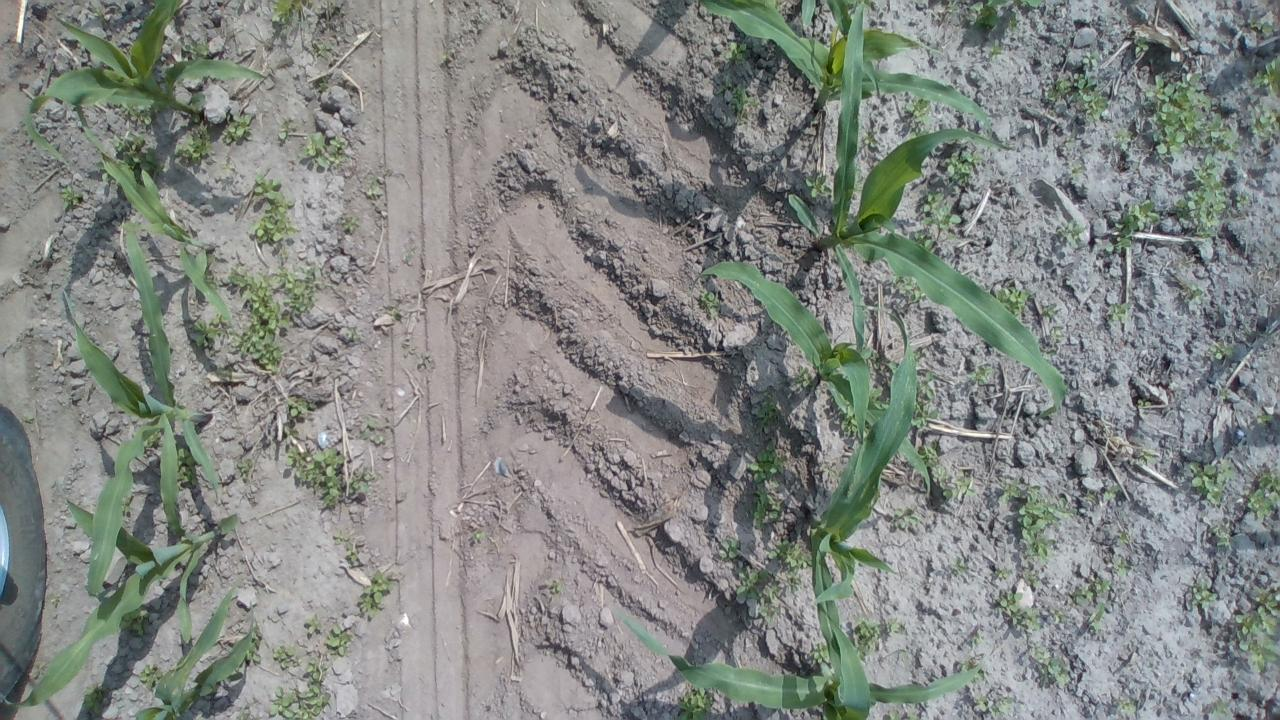Maize: (788, 3, 1068, 422), (62, 229, 222, 615), (698, 255, 932, 498), (21, 500, 242, 710), (808, 300, 918, 692), (608, 606, 982, 720), (24, 0, 269, 166), (698, 0, 991, 130), (80, 122, 236, 325), (132, 588, 252, 720)
Weeds: (1142, 72, 1242, 156), (283, 426, 377, 510), (226, 264, 292, 376), (1000, 478, 1077, 560), (1176, 152, 1229, 239), (269, 645, 330, 720), (1233, 588, 1280, 672), (747, 438, 788, 529), (1096, 198, 1162, 252), (1042, 70, 1110, 122), (248, 176, 298, 242), (945, 0, 1043, 32), (110, 129, 168, 182), (736, 564, 783, 626), (272, 264, 316, 318), (356, 570, 398, 622), (297, 131, 353, 170), (922, 188, 961, 241), (1188, 461, 1233, 506), (996, 589, 1042, 631), (726, 78, 760, 127), (1247, 472, 1280, 522), (931, 464, 977, 499), (1032, 646, 1072, 686), (768, 540, 812, 575), (174, 122, 212, 160), (756, 390, 788, 434), (851, 616, 880, 664), (678, 683, 714, 720), (945, 152, 983, 186), (1252, 54, 1280, 100), (903, 94, 931, 140), (174, 436, 198, 488), (1247, 101, 1280, 138), (188, 314, 224, 347), (1072, 576, 1110, 606), (996, 286, 1030, 318), (222, 110, 254, 144), (270, 0, 313, 25), (892, 274, 927, 304), (120, 102, 160, 126), (1054, 219, 1084, 250), (334, 529, 361, 562), (326, 623, 352, 657), (80, 683, 106, 716), (911, 401, 940, 430), (122, 610, 152, 638), (357, 416, 386, 444), (1192, 579, 1218, 610), (698, 288, 723, 320), (138, 662, 166, 690), (1040, 325, 1064, 357), (978, 696, 1012, 717), (716, 535, 742, 562), (806, 172, 832, 199), (1208, 520, 1233, 548), (894, 506, 922, 530), (910, 230, 936, 254), (245, 626, 262, 662), (182, 40, 211, 61), (284, 397, 316, 416), (790, 364, 814, 389), (915, 443, 940, 467), (722, 40, 747, 63), (62, 186, 84, 212), (915, 372, 935, 400), (966, 366, 994, 386), (960, 662, 985, 684), (809, 640, 830, 666), (1112, 128, 1134, 152), (1088, 602, 1104, 634), (97, 162, 117, 187), (1210, 698, 1232, 720), (1181, 279, 1203, 301), (842, 406, 858, 436), (870, 386, 890, 410), (1108, 302, 1132, 322), (1210, 342, 1236, 360), (884, 707, 918, 720), (862, 346, 882, 368), (340, 214, 360, 236), (364, 174, 384, 196), (1248, 19, 1275, 35), (1112, 556, 1132, 577), (236, 457, 254, 479), (1049, 606, 1067, 627), (822, 462, 844, 479), (304, 614, 321, 635), (141, 431, 162, 448), (988, 40, 1004, 62), (786, 573, 804, 592), (853, 167, 866, 193), (1021, 570, 1040, 587), (1133, 37, 1150, 56), (843, 0, 874, 10), (1234, 193, 1252, 210), (886, 619, 904, 636), (204, 273, 222, 290), (1069, 162, 1088, 178), (1082, 52, 1101, 68), (383, 306, 402, 322), (346, 326, 363, 343), (951, 558, 969, 574), (1103, 484, 1121, 500), (275, 124, 290, 143), (1040, 304, 1060, 318), (993, 567, 1014, 580), (312, 43, 330, 58), (763, 0, 784, 12), (1138, 450, 1154, 465), (862, 131, 878, 146), (1119, 700, 1136, 714), (912, 350, 922, 370), (92, 7, 105, 22), (972, 629, 984, 645), (551, 578, 562, 594), (1258, 413, 1274, 424), (121, 497, 131, 514), (49, 593, 60, 607), (1138, 399, 1152, 410), (1118, 532, 1130, 544), (317, 78, 328, 91), (1220, 389, 1232, 400), (206, 254, 218, 265), (68, 298, 77, 312), (474, 532, 486, 542), (1084, 490, 1094, 502), (887, 362, 897, 374), (191, 112, 201, 124), (920, 161, 929, 174), (31, 153, 45, 161), (1065, 135, 1075, 146), (23, 414, 34, 424), (278, 252, 290, 260), (238, 711, 248, 720), (439, 52, 448, 61), (222, 164, 232, 172)
